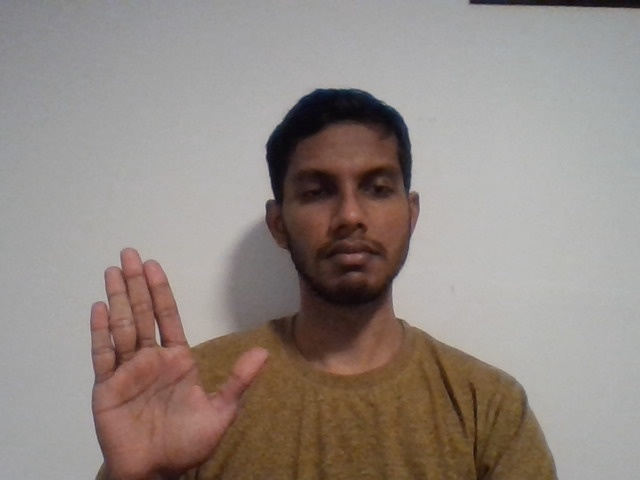hello: (62, 243, 279, 465)
